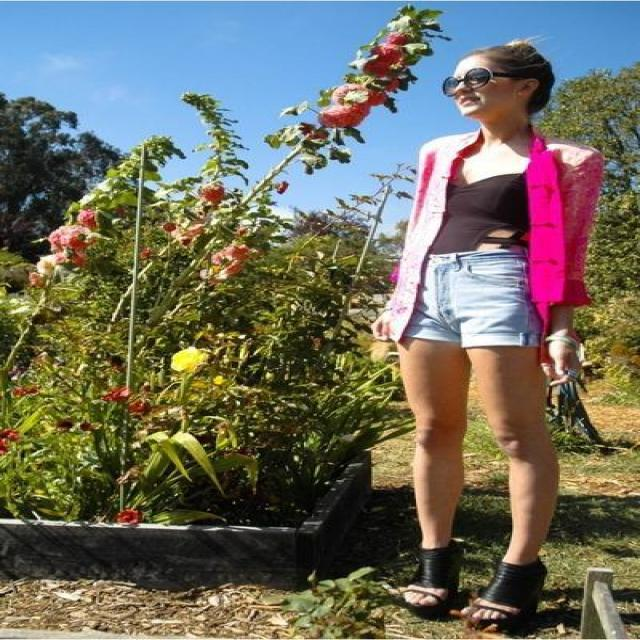jacket: (371, 132, 616, 345)
shirt: (426, 166, 528, 257)
shoe: (395, 543, 547, 622)
shorts: (410, 244, 538, 345)
